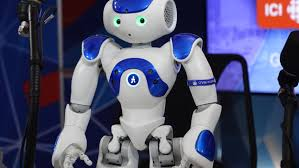nao: (42, 1, 237, 168)
